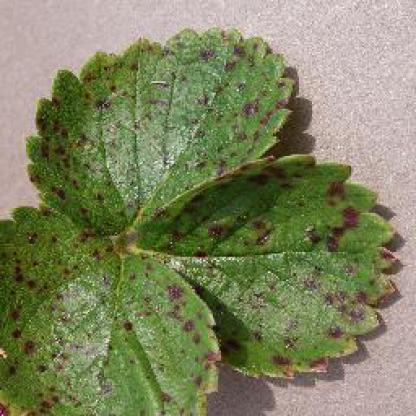leaf scorch: (0, 20, 408, 414)
